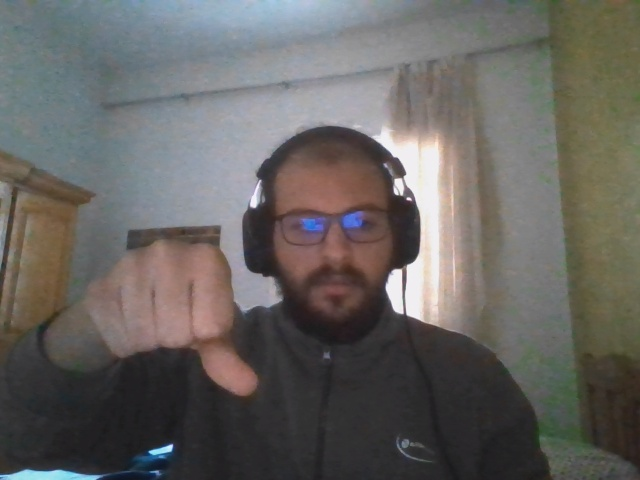Yes: (82, 237, 257, 395)
